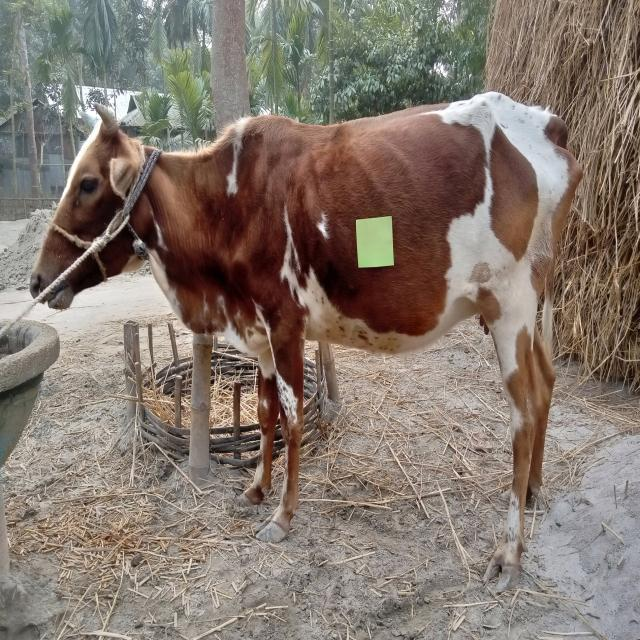badan_sapi: (241, 98, 578, 357)
sapi: (18, 83, 597, 603)
